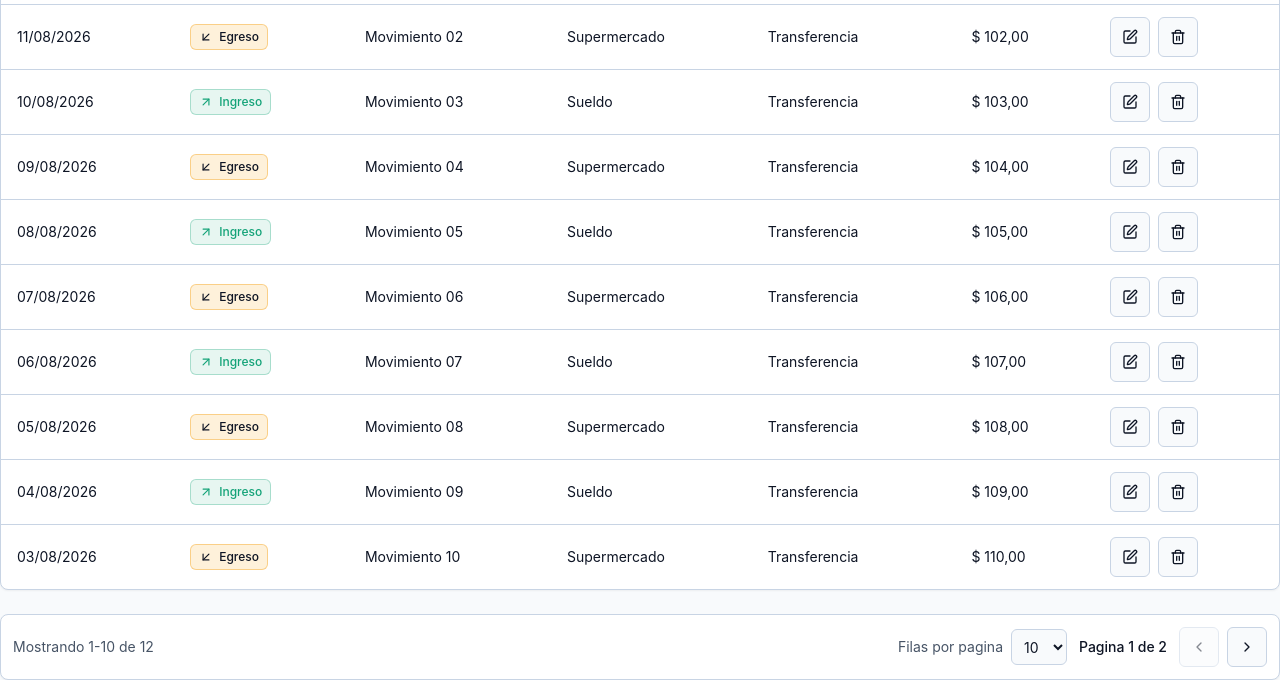
it: TransactionsPage › TransactionsPage_WhenMoreThanOnePageExists_ShouldPaginateVisibleRows
The image size is (1280, 680).
(page scrolled)
Expected: the text "Movimiento 11" is not shown
Expected: the text "Pagina 1 de 2" is shown, [1075, 637, 1171, 657]
Click the button named "Pagina siguiente" at (1247,647), box [1227, 627, 1267, 667]
(page scrolled)
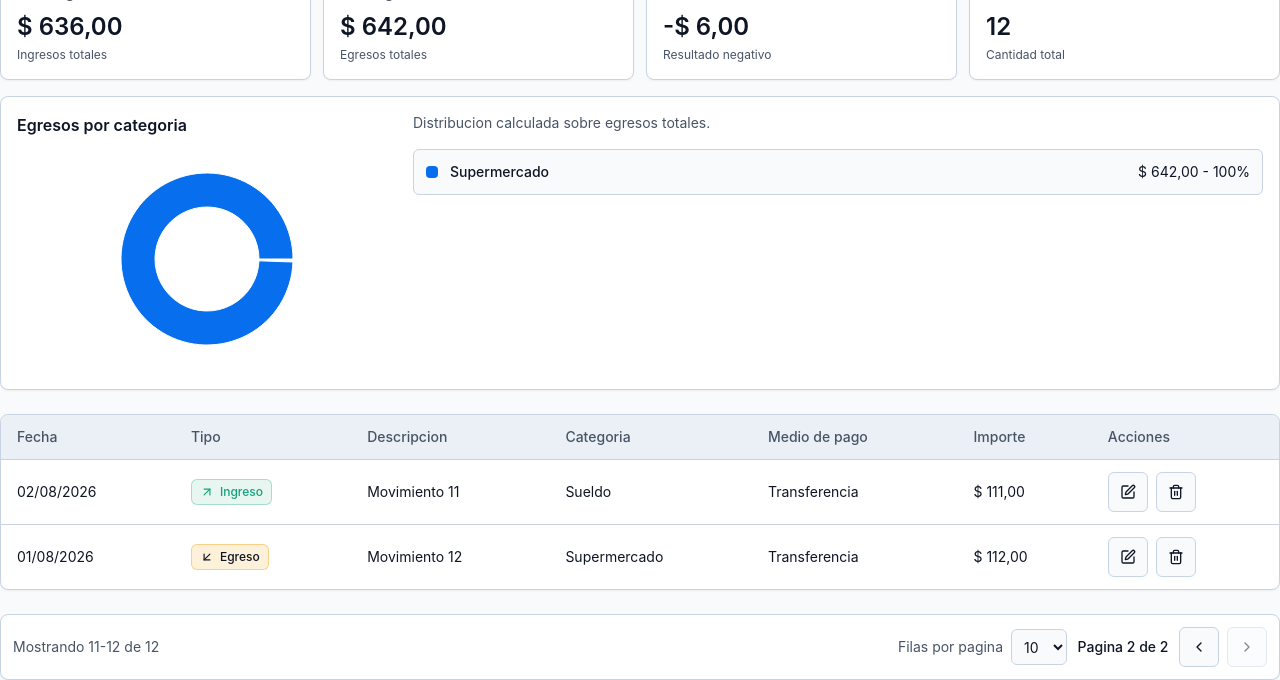
Now the text "Movimiento 11" is shown, box [351, 460, 549, 524]
Select "25" in the dropdown labelled "Filas por pagina" at (1039,647), box [1011, 629, 1067, 665]
(page scrolled)
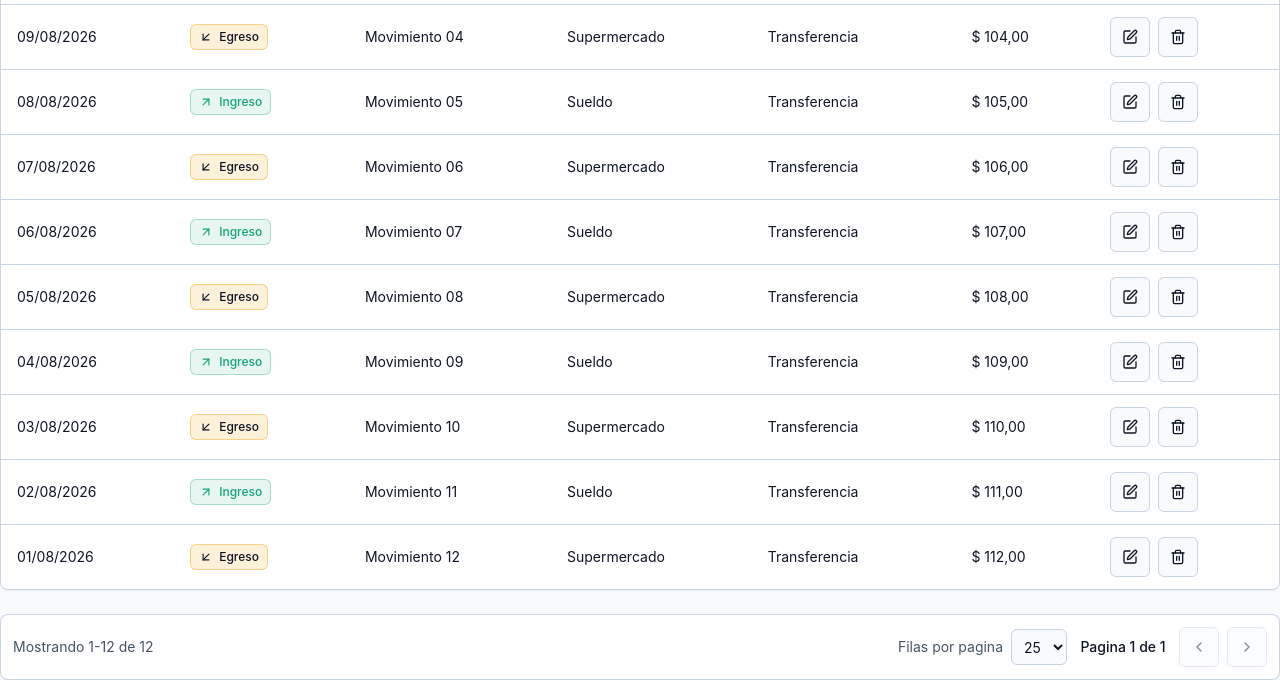
Now the text "Pagina 1 de 1" is shown, box [1075, 637, 1171, 657]
